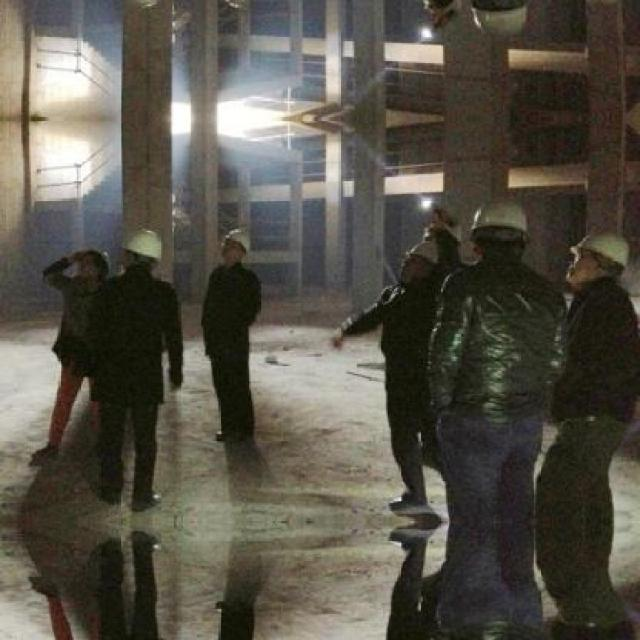helmet: (464, 197, 536, 265), (568, 222, 634, 288), (463, 0, 537, 38), (115, 225, 168, 273), (398, 238, 439, 282), (423, 210, 460, 256), (71, 242, 111, 282), (218, 224, 253, 265), (423, 0, 462, 26), (217, 0, 254, 11)
